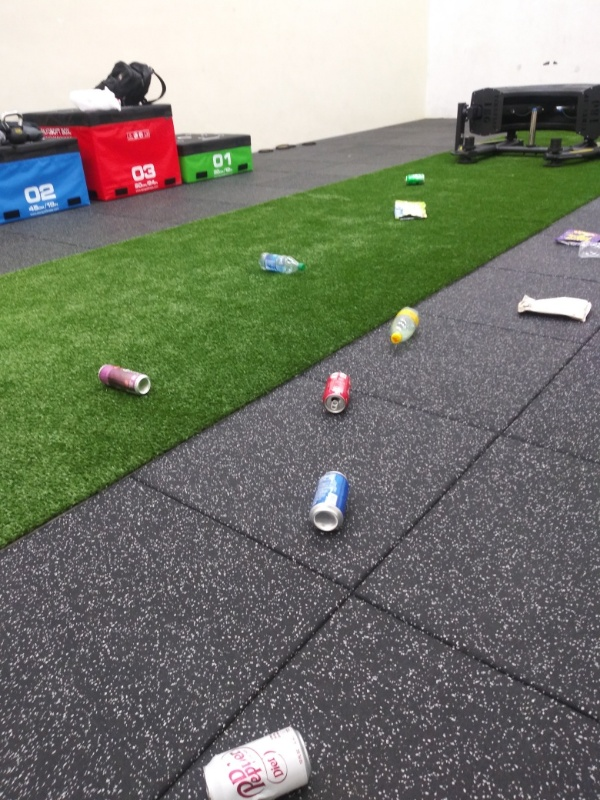bag: (513, 291, 596, 328), (390, 197, 430, 224), (553, 225, 600, 247)
bottle: (253, 249, 312, 280), (386, 306, 424, 349), (572, 239, 600, 265)
can: (198, 716, 320, 800), (307, 469, 355, 535), (92, 359, 154, 399), (318, 370, 353, 414), (401, 169, 426, 188)
